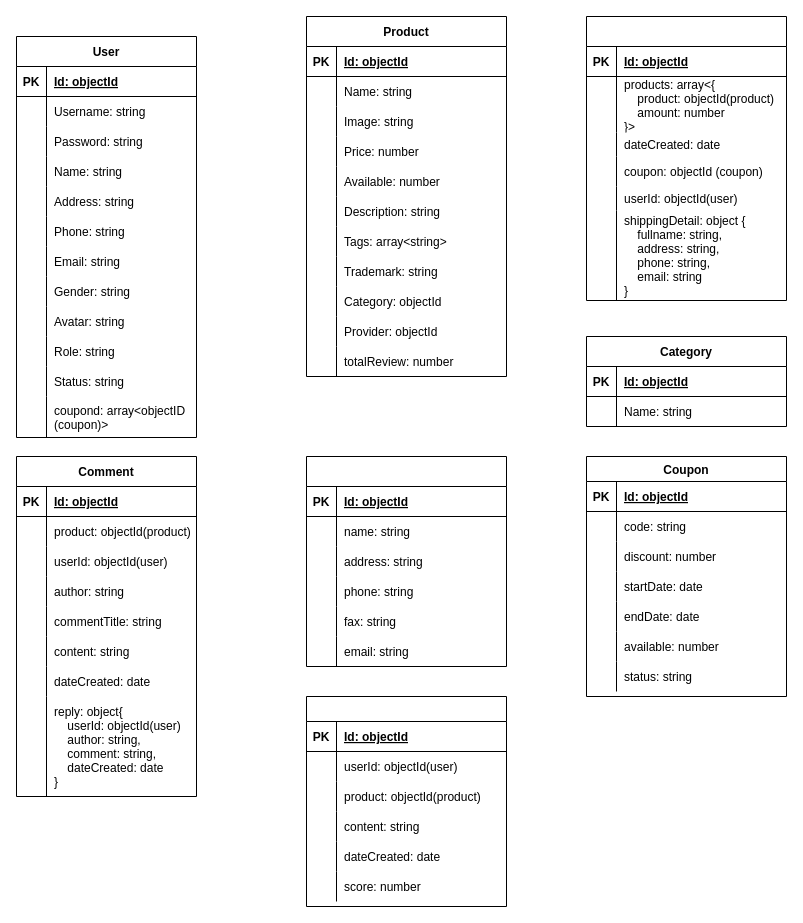
The diagram is 803 pixels wide and 923 high, and some of its shapes have lost their labels. Each missing label, with the box of its shape:
Order: (586, 16, 786, 300)
Provider: (306, 456, 506, 666)
Review: (306, 696, 506, 906)
